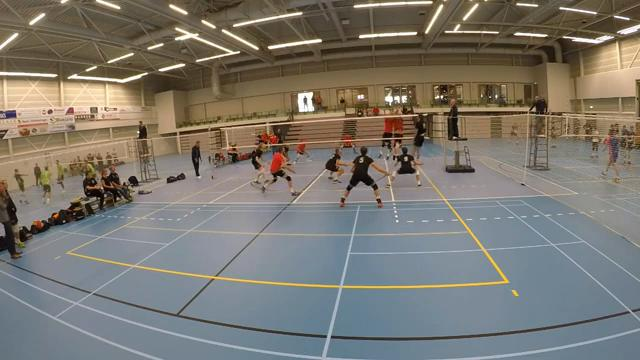Attack: (406, 108, 428, 168)
Block: (377, 105, 392, 158), (391, 106, 405, 158)
Player: (340, 147, 389, 206), (262, 148, 297, 195), (386, 147, 421, 186), (325, 148, 347, 182), (250, 144, 265, 183), (293, 140, 311, 163), (340, 134, 356, 153), (281, 145, 290, 164)
